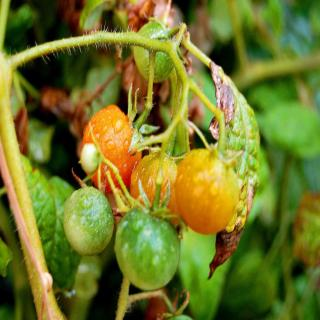tomato: (173, 120, 246, 236), (80, 104, 144, 193), (114, 205, 180, 290), (129, 151, 182, 226), (62, 185, 116, 258)
